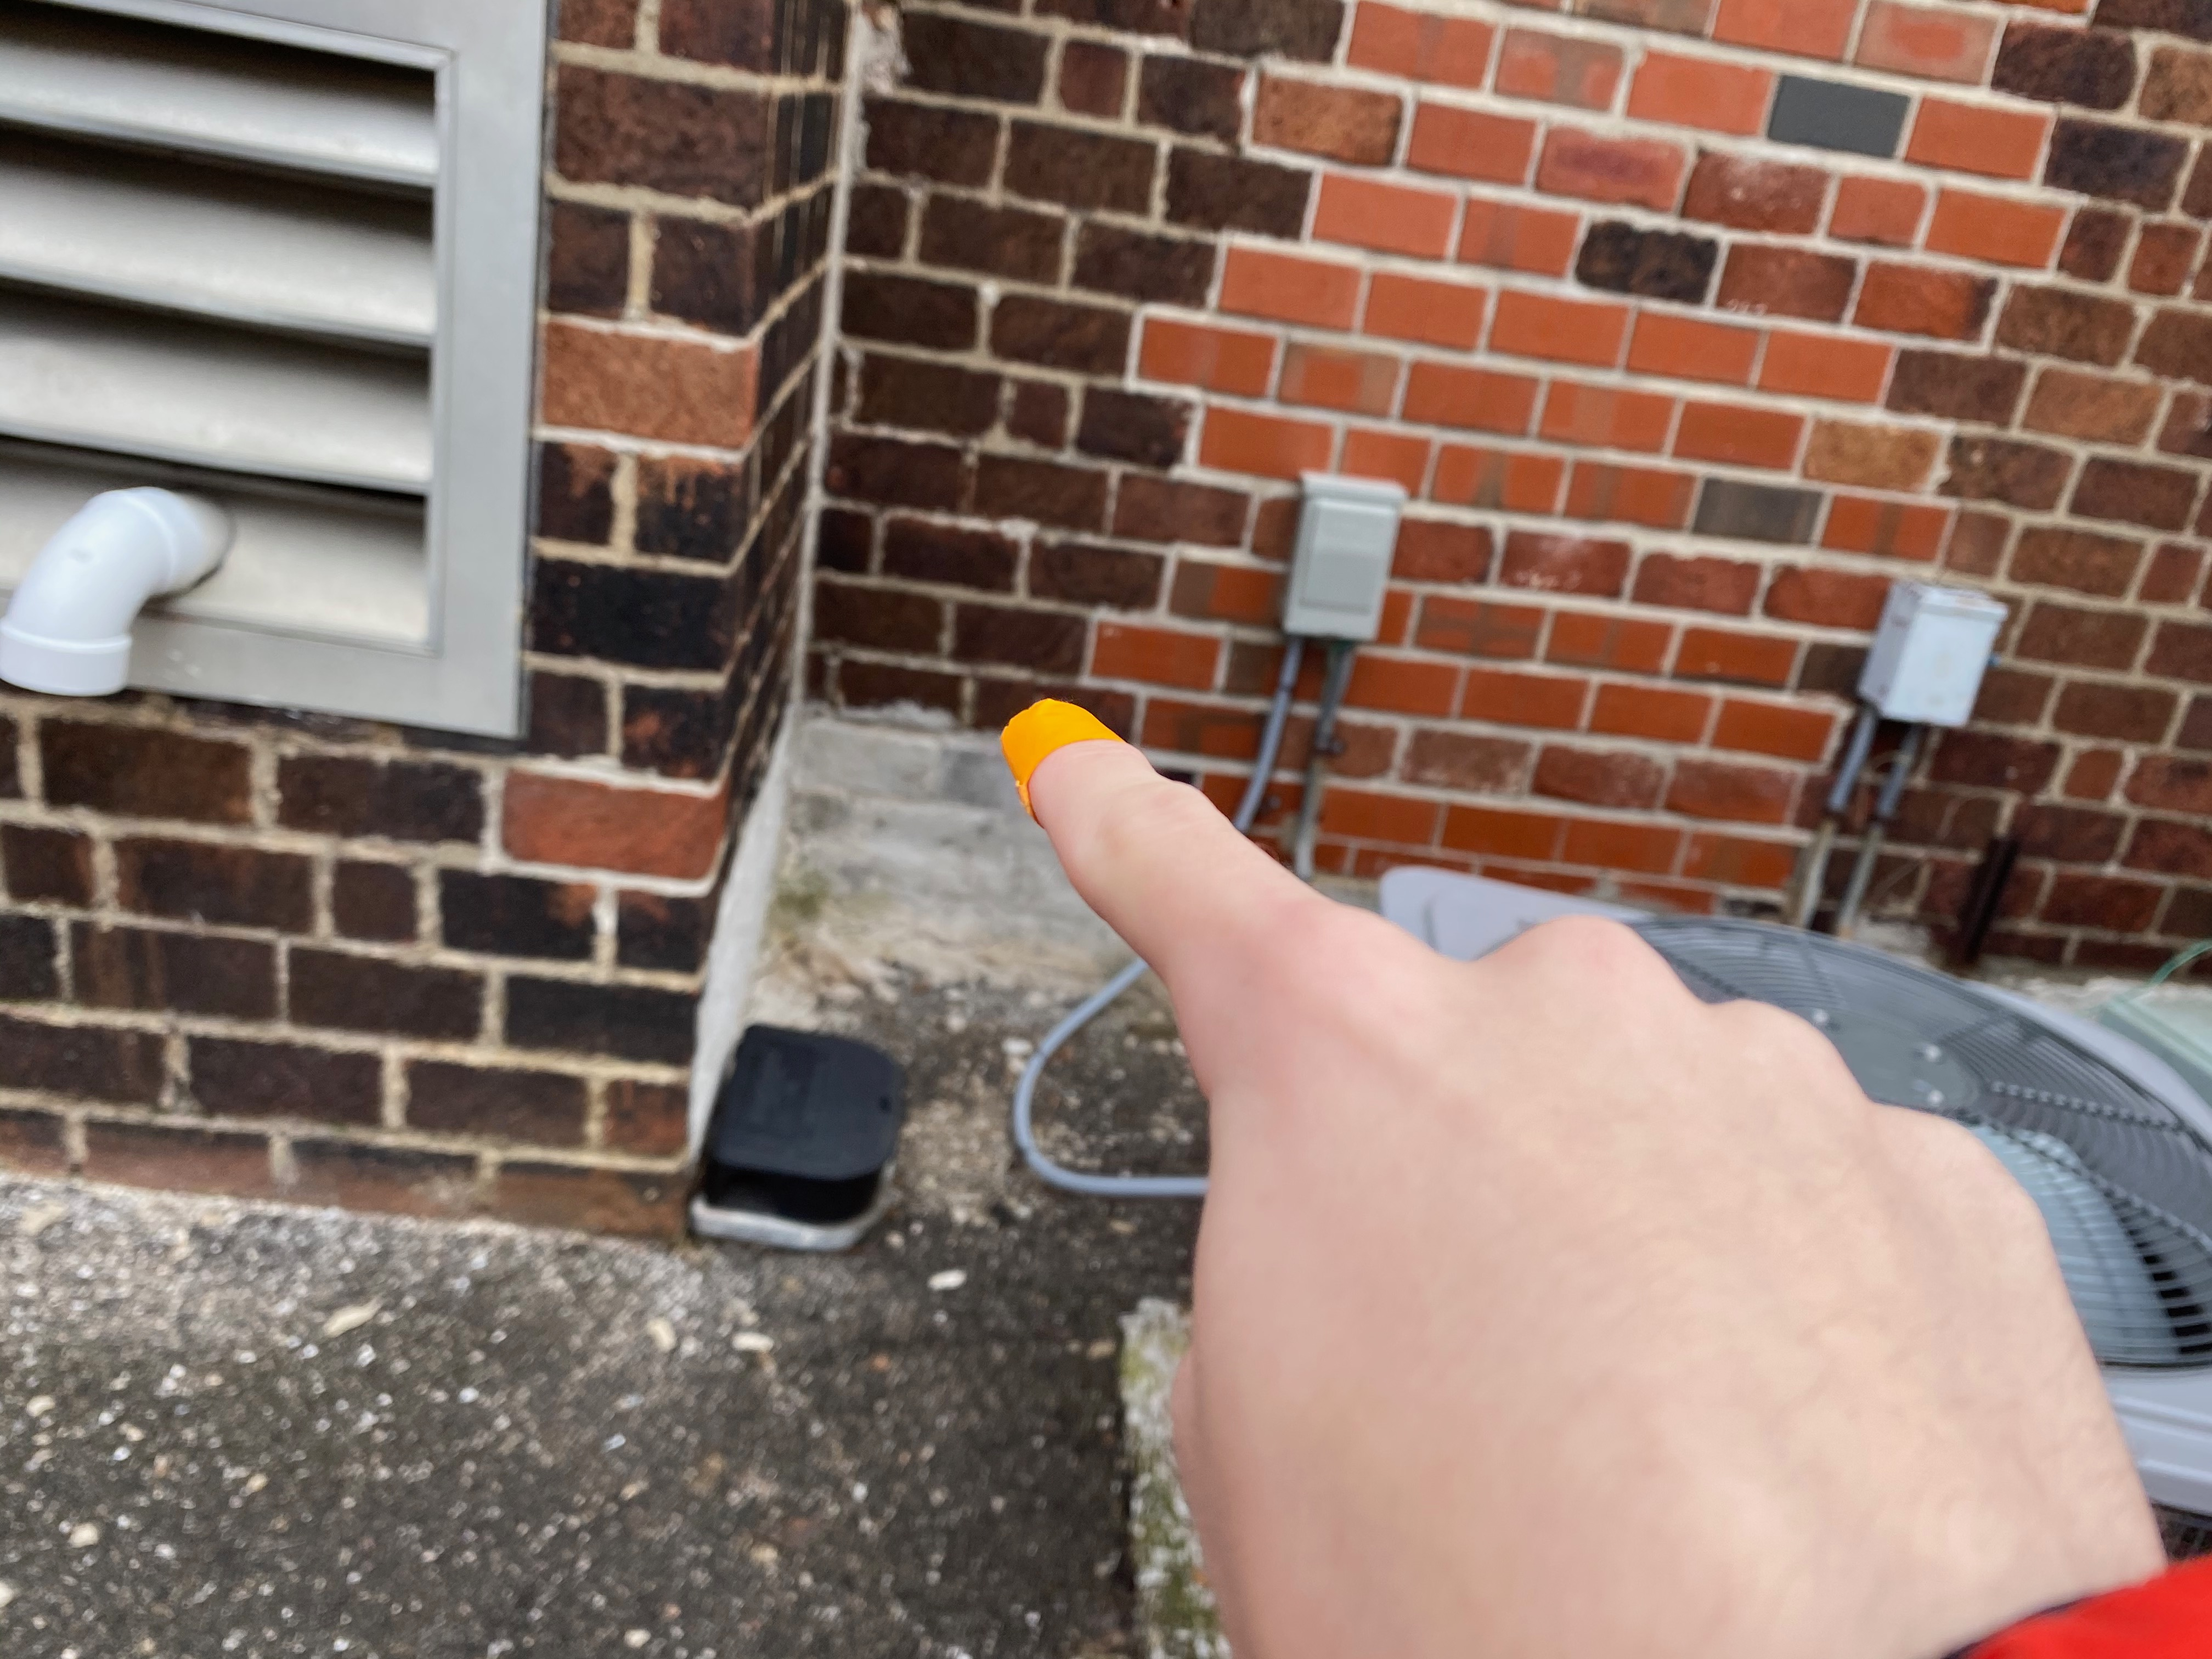fingertip: (977, 694, 1143, 835)
